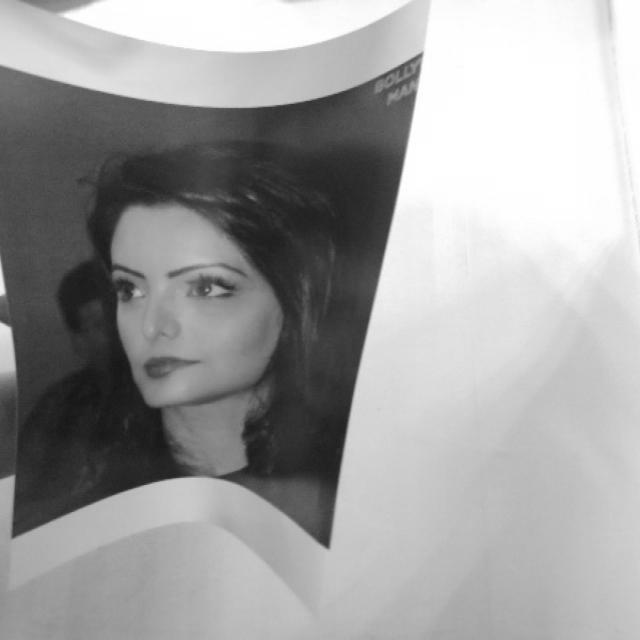fake: (2, 6, 420, 608)
